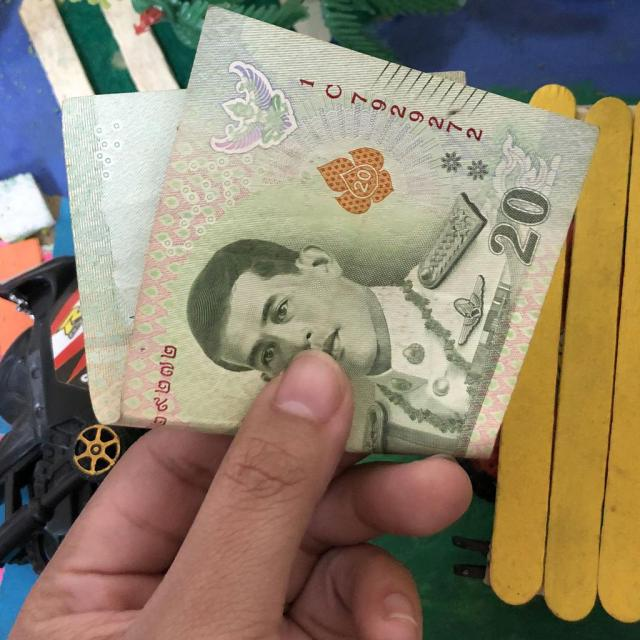THAI20: (61, 7, 599, 461)
